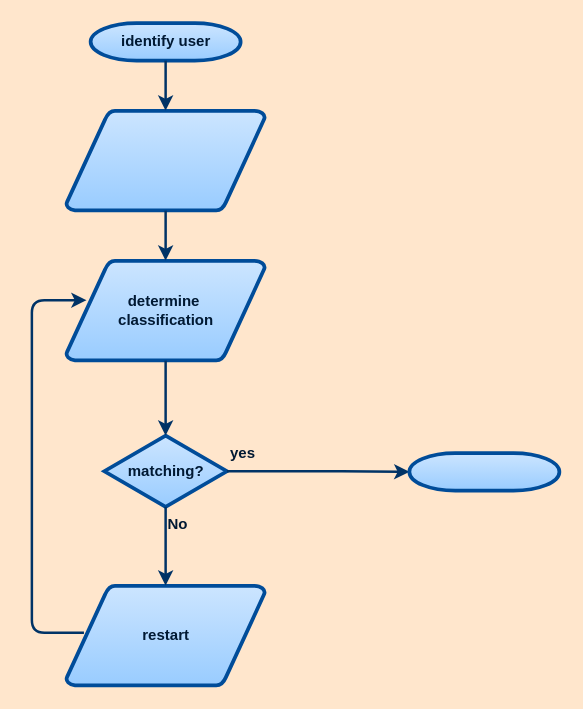
Some shapes in this 583 by 709 pixel diagram are drawn without their labels. Each missing label, with the centre of its shape:
"define form user" belongs at (165,160).
"end" belongs at (484,471).
